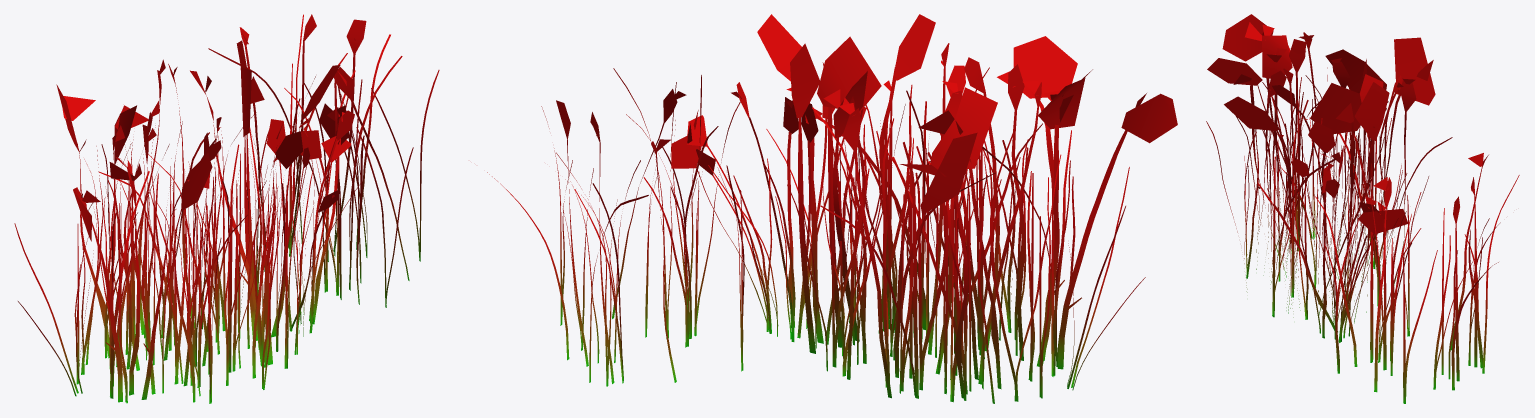
File: Softstem Bulrush_LOD1_Var8_uehjcafia.fbx
3 views of the same model, side by side, from view 1: azimuth 30°, elevation 25°; view 2: azimuth 150°, elevation 25°; view 3: azimuth 270°, elevation 25° (orthographic). The views are drawn at different scales.
Visible parts, largest first — view 1: _9603_Var8_LOD1; view 2: _9603_Var8_LOD1; view 3: _9603_Var8_LOD1.
Boxes of the visible parts, x1,y1,x2,y2 form: _9603_Var8_LOD1: (14,14,439,403); _9603_Var8_LOD1: (487,14,1177,403); _9603_Var8_LOD1: (1206,14,1519,403).
Bounding box in the file's own units: 377 × 213 × 249.
